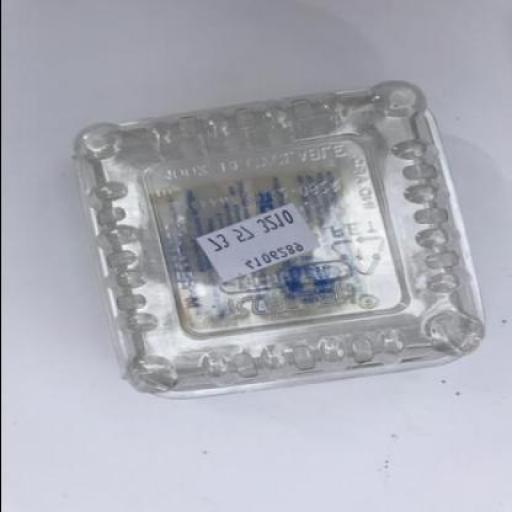plastic: (70, 83, 486, 401)
